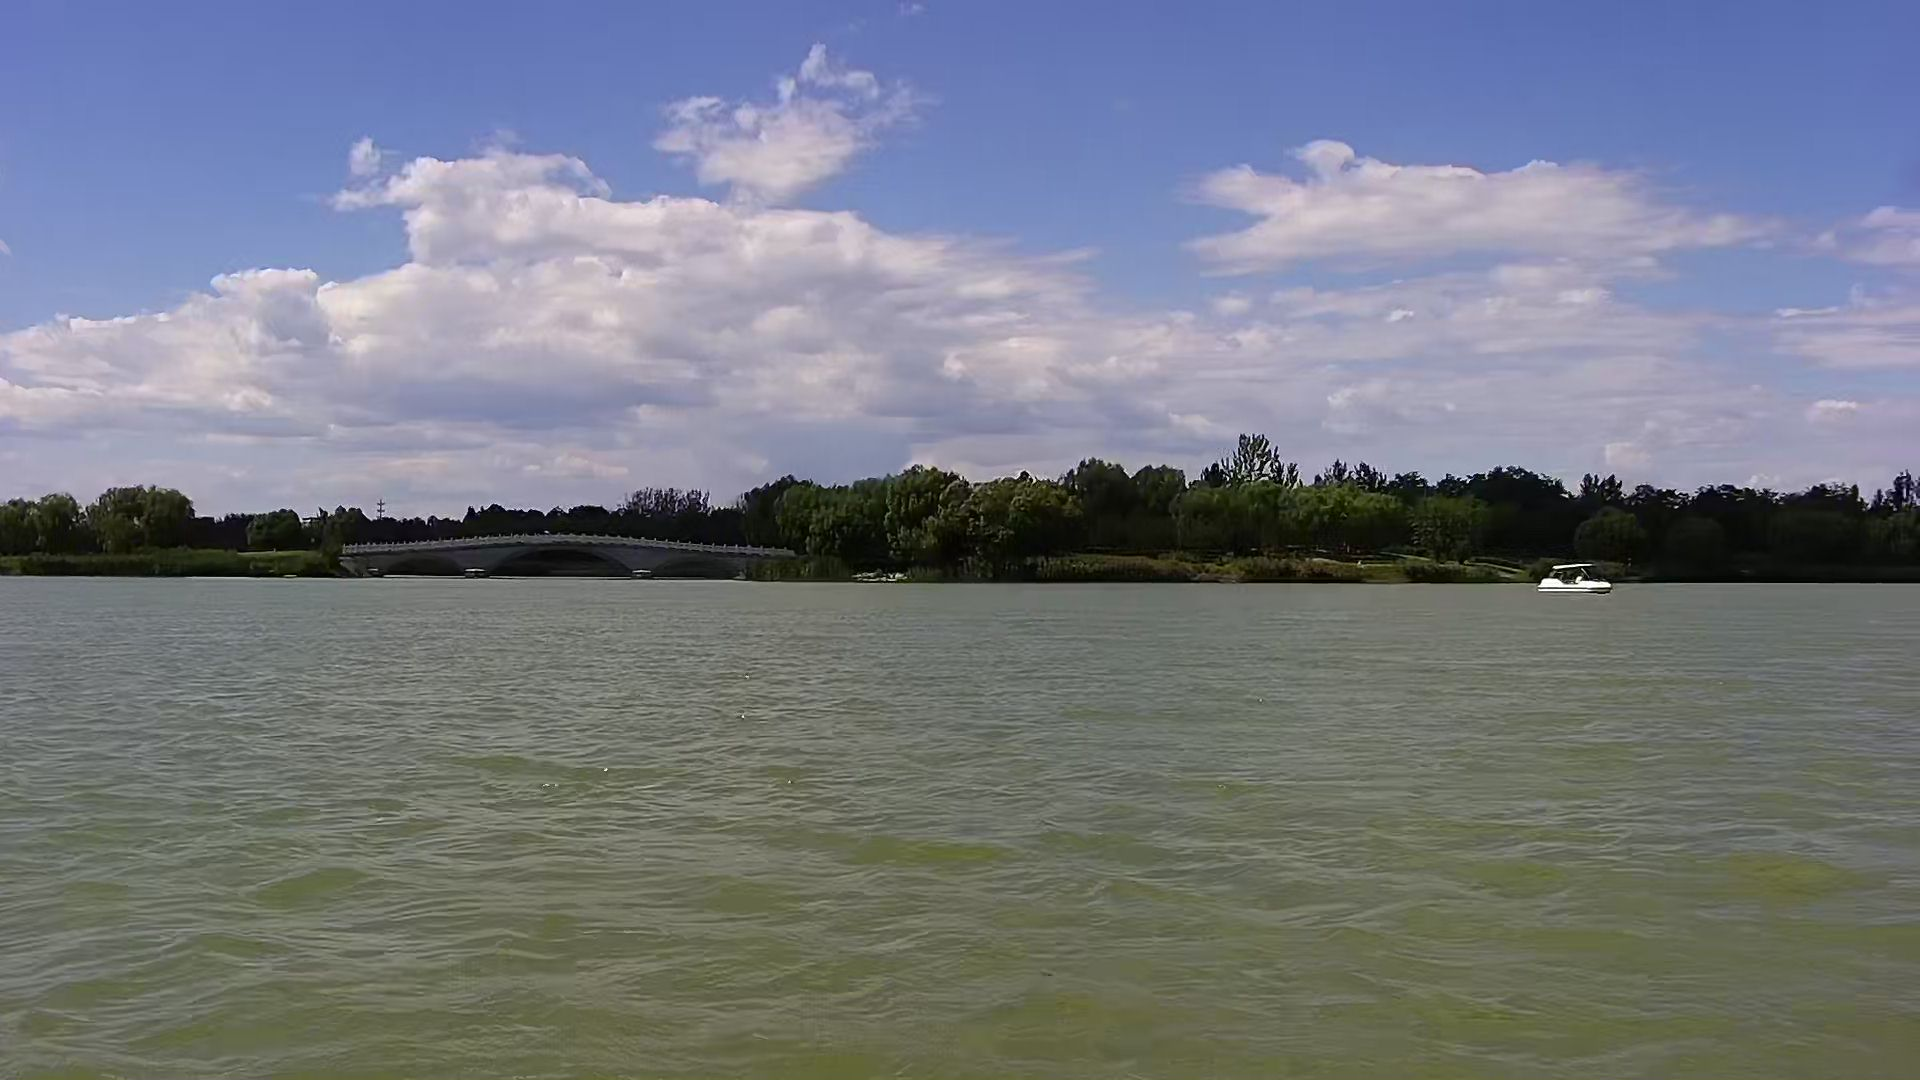boat: (1528, 556, 1614, 604)
bridge: (338, 535, 791, 583)
